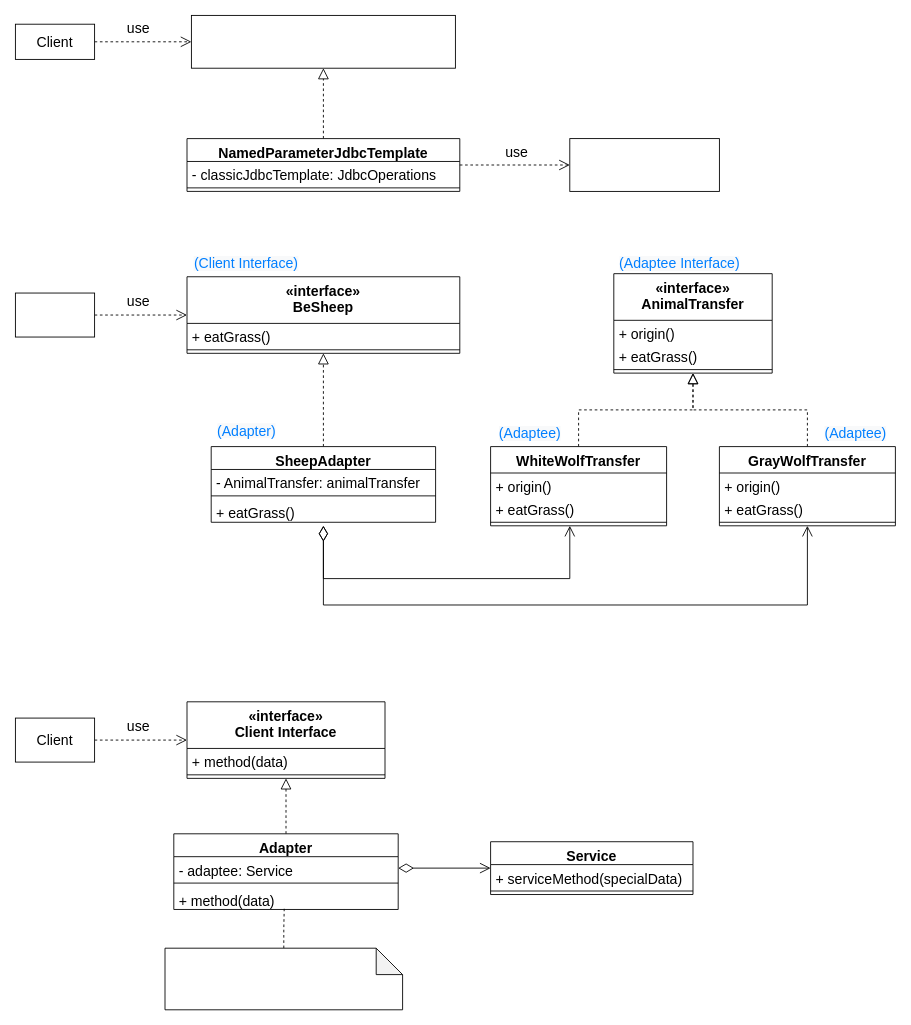
This 911x1025 diagram has some shape labels left out. Each missing label, with the centre of its shape:
public void method(data){ adaptee.serviceMethod(data); }: the point at 283,978
Test (Client): the point at 55,314
«interface» JdbcOperations: the point at 644,164
«interface» NamedParameterJdbcOperations: the point at 323,41
